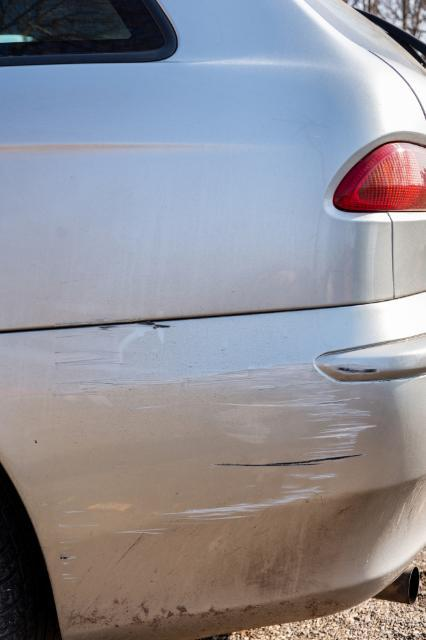scratch: (43, 324, 381, 586)
